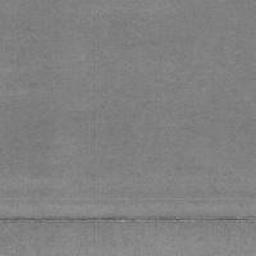Welding line: (0, 215, 256, 225)
